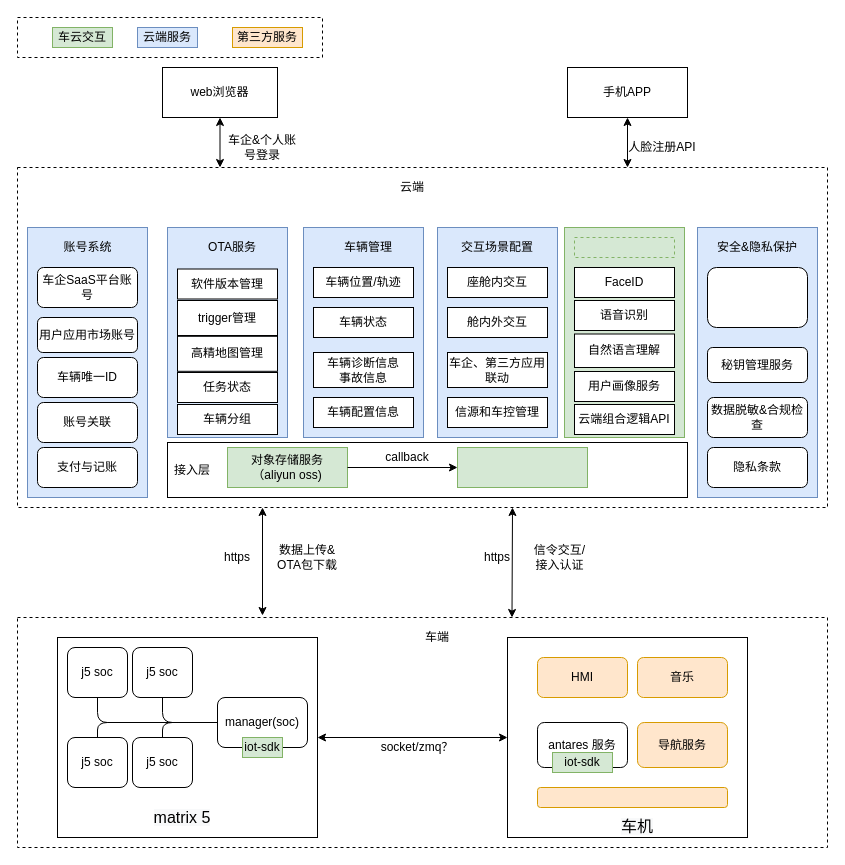
The diagram is 845 pixels wide and 865 high, and some of its shapes have lost their labels. Here are the shapes that lost their labels. From the top down, the centre of each, then its label:
(624,247): 云端AI服务
(757,297): 云服务安全 (堡垒机、防火墙、安全中心)
(522,467): dap数据接入服务
(632,797): 车机OS
